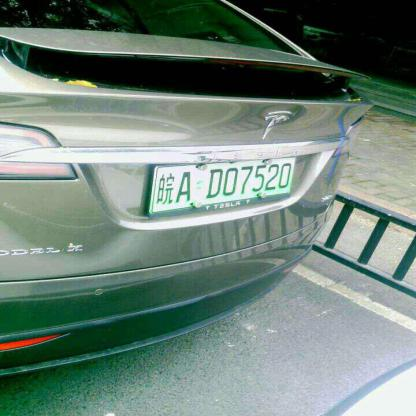lp: (153, 158, 295, 212)
